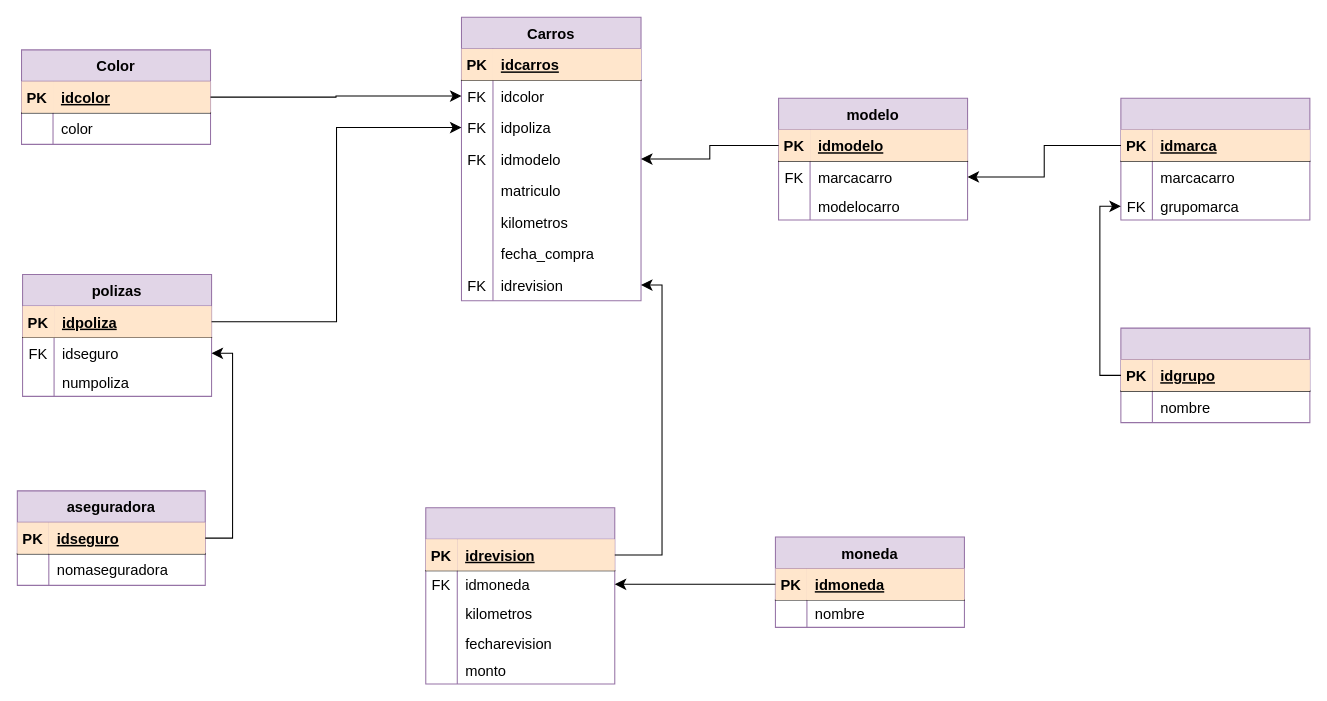
This 1327x701 diagram has some shape labels left out. The box of each missing label's shape, as (x1, y1, x2, y2) in pixels:
grupos: (1120, 327, 1310, 423)
marcas: (1120, 97, 1310, 220)
revisiones: (425, 507, 615, 684)
